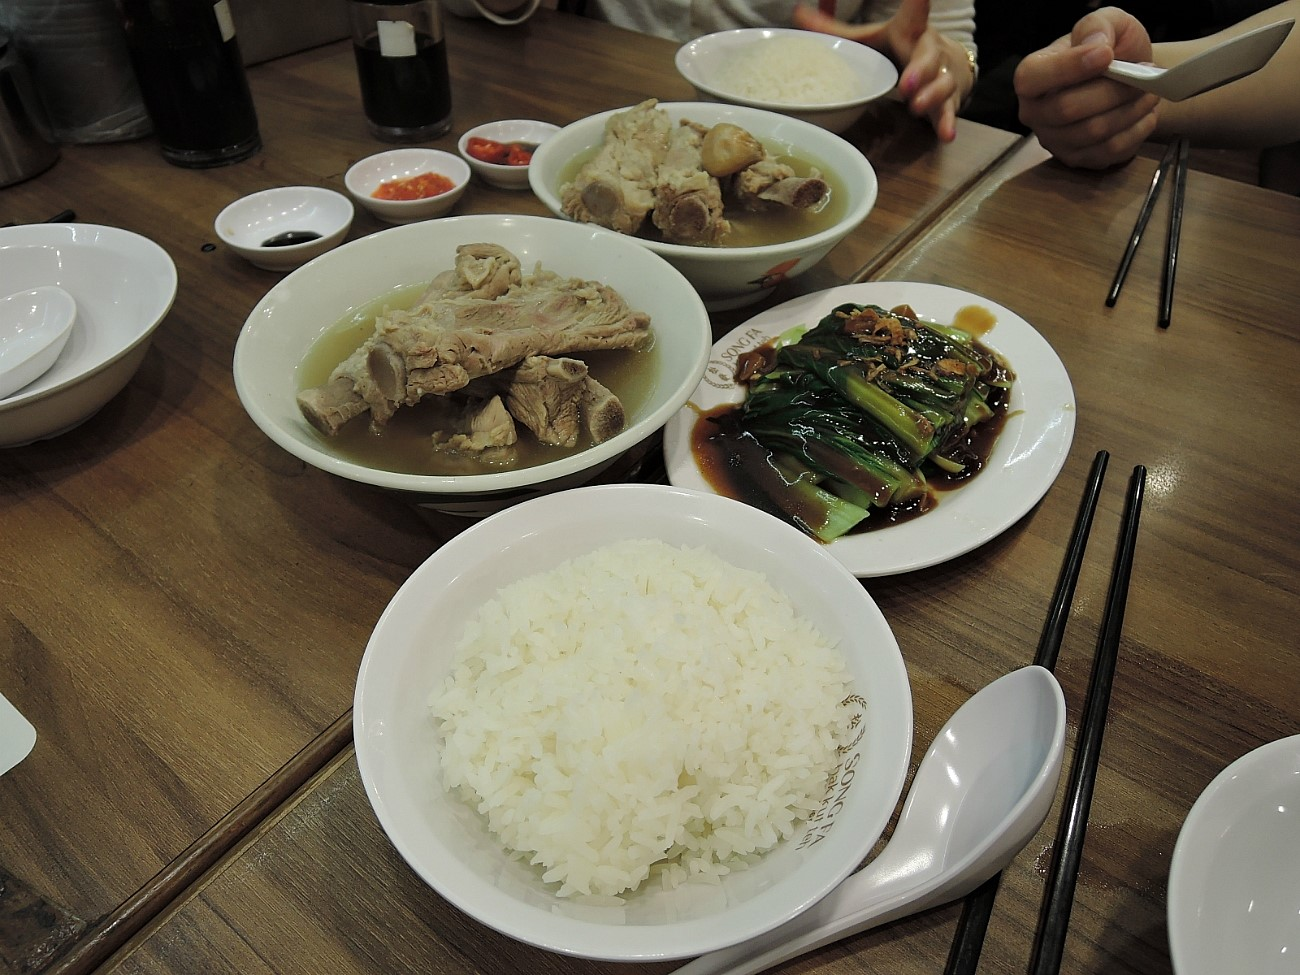chopped lettuce: (750, 304, 1013, 514)
plain rice: (460, 560, 817, 864)
